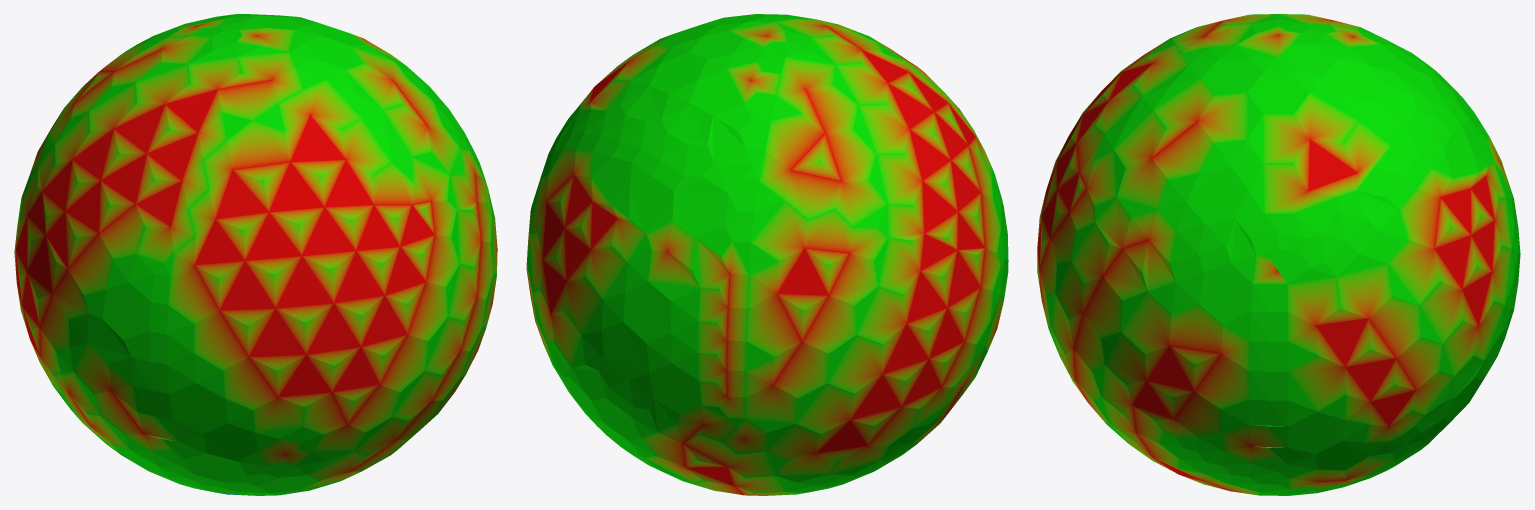
Rendered from after_cleaning_reconquest_8.obj.
The picture shows the model from 3 angles, left to right: view 1: azimuth 30°, elevation 25°; view 2: azimuth 150°, elevation 25°; view 3: azimuth 270°, elevation 25°; orthographic projection.
Bounding box in the file's own units: 1.99 × 2 × 2.
